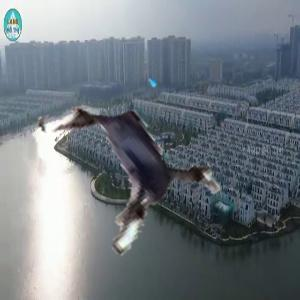drone: (26, 67, 228, 269)
